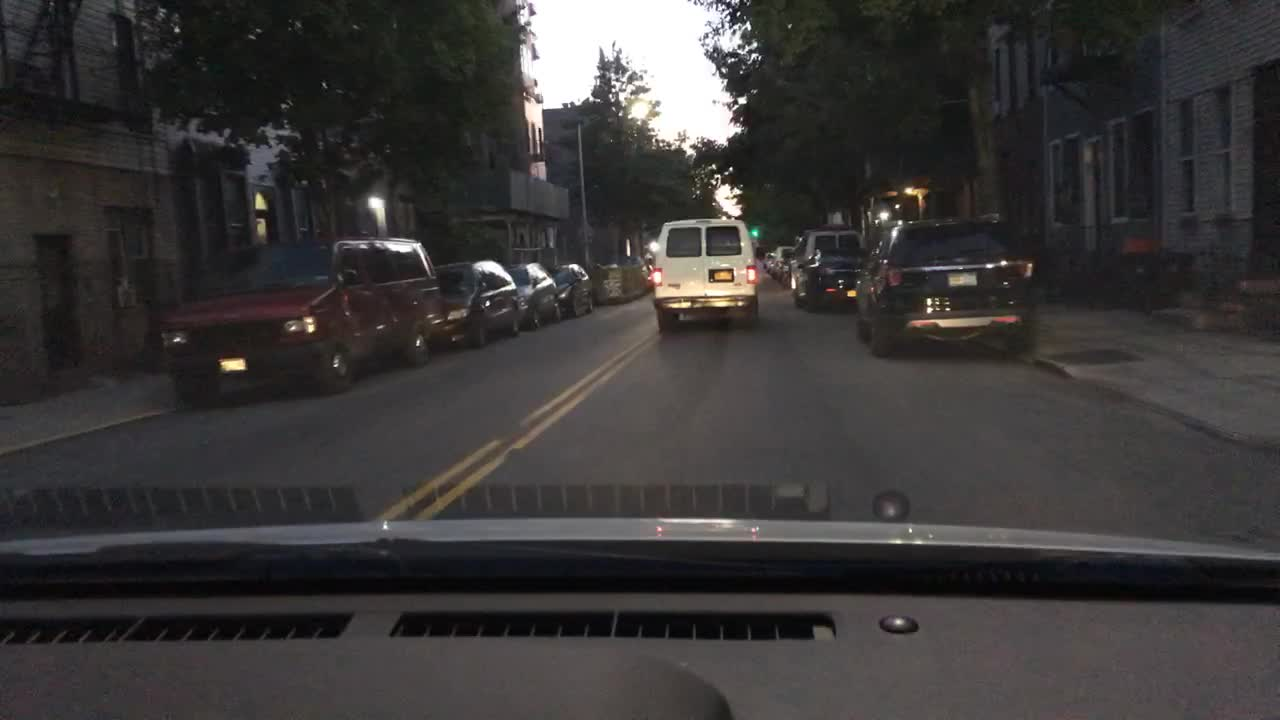car: (155, 233, 444, 408), (850, 211, 1038, 361), (649, 219, 759, 332), (435, 256, 523, 349), (781, 226, 862, 293), (793, 248, 870, 314), (503, 265, 563, 331), (546, 265, 597, 315), (766, 241, 796, 273), (626, 253, 654, 285), (759, 251, 773, 266)
traffic light: (749, 218, 759, 238)
